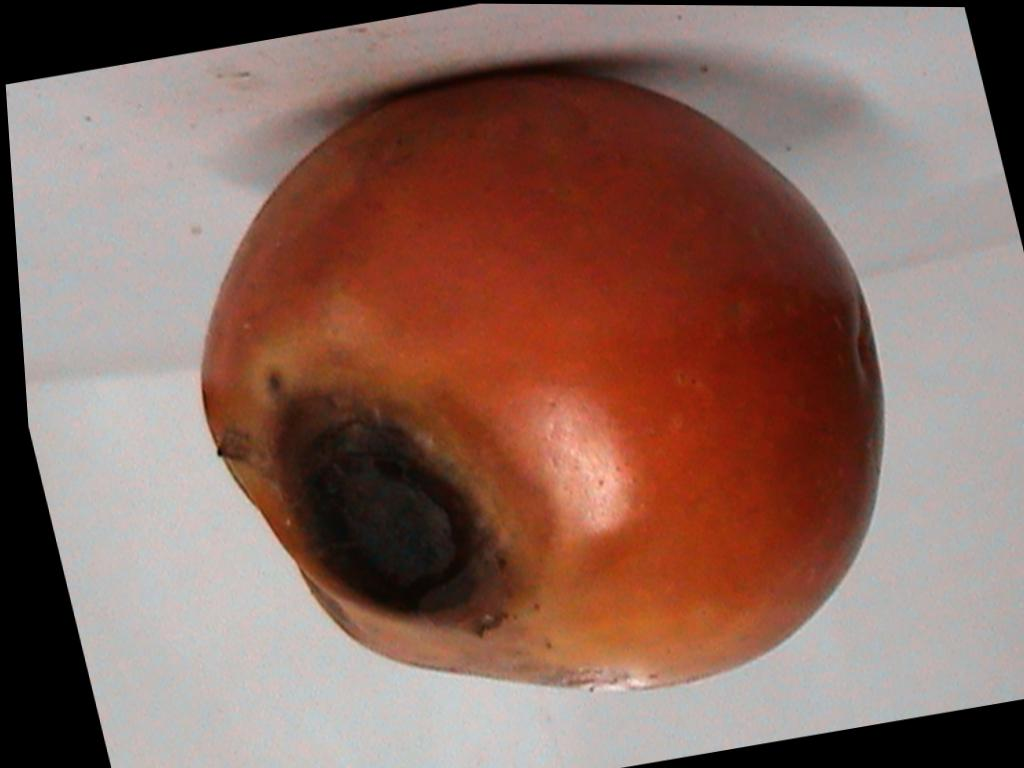rot_mold_decay: (301, 417, 485, 614)
tomato: (204, 76, 883, 687)
